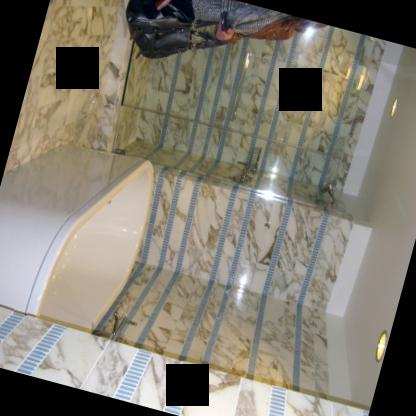handbag: (123, 0, 231, 58)
